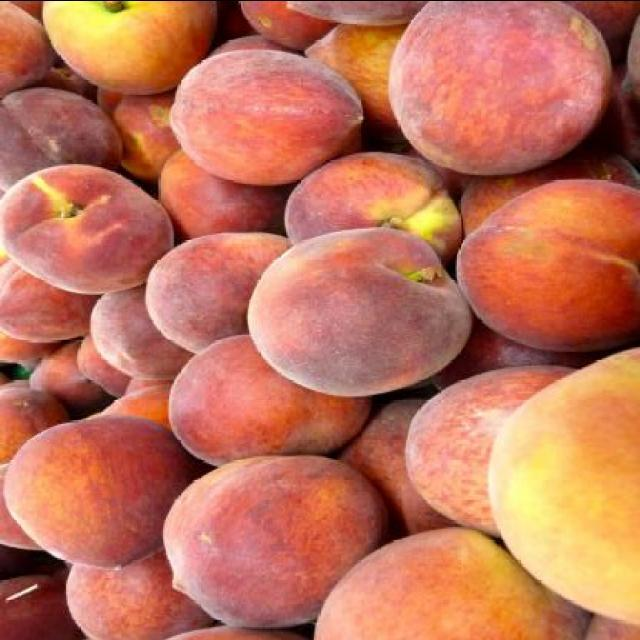Peach: (1, 2, 638, 640), (7, 160, 170, 294)
